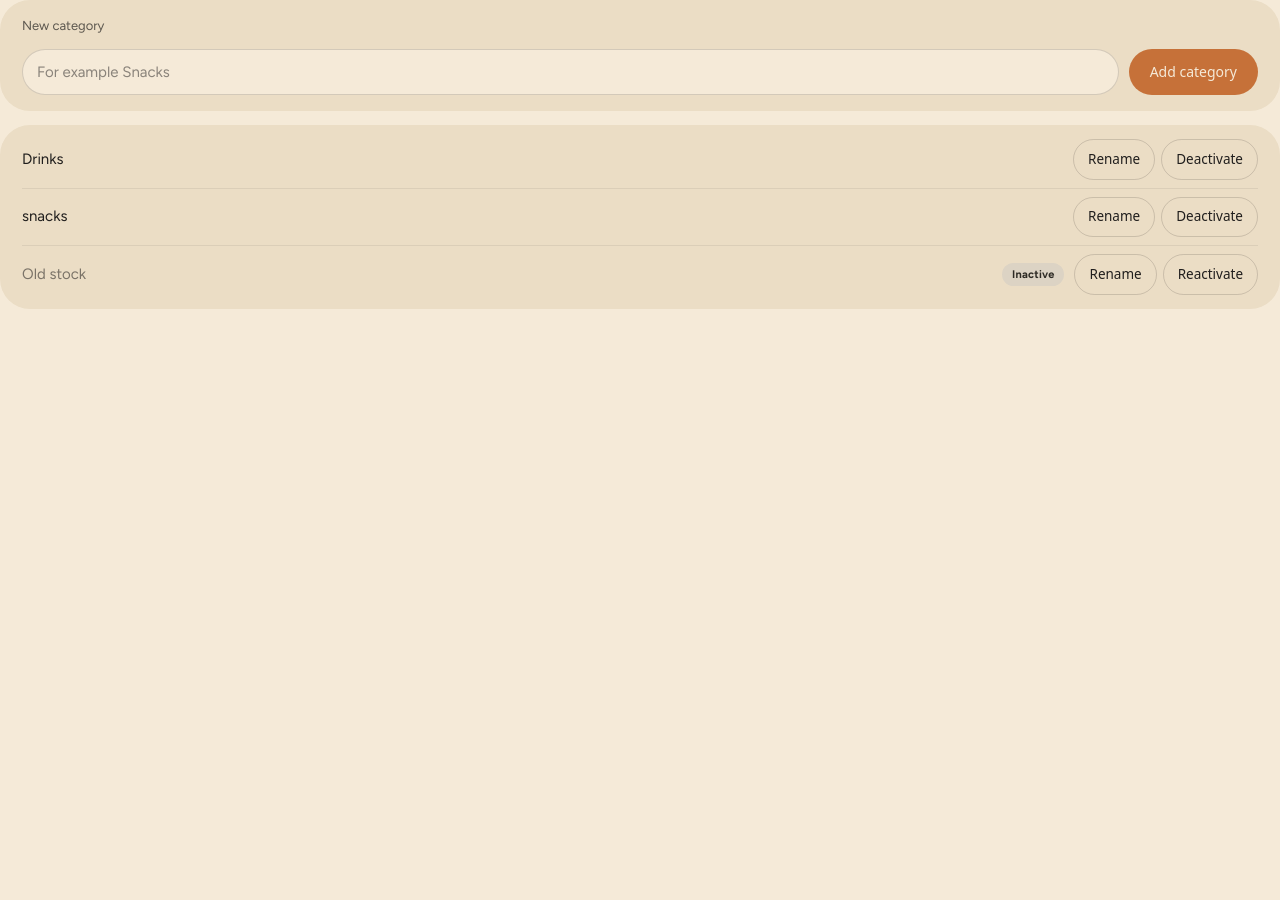
Test: Products > Categories (PROD-03) › the Owner renames a category
Click the button with aria-label "Rename Drinks".
click(1114, 159)  # box [1073,139,1155,180]
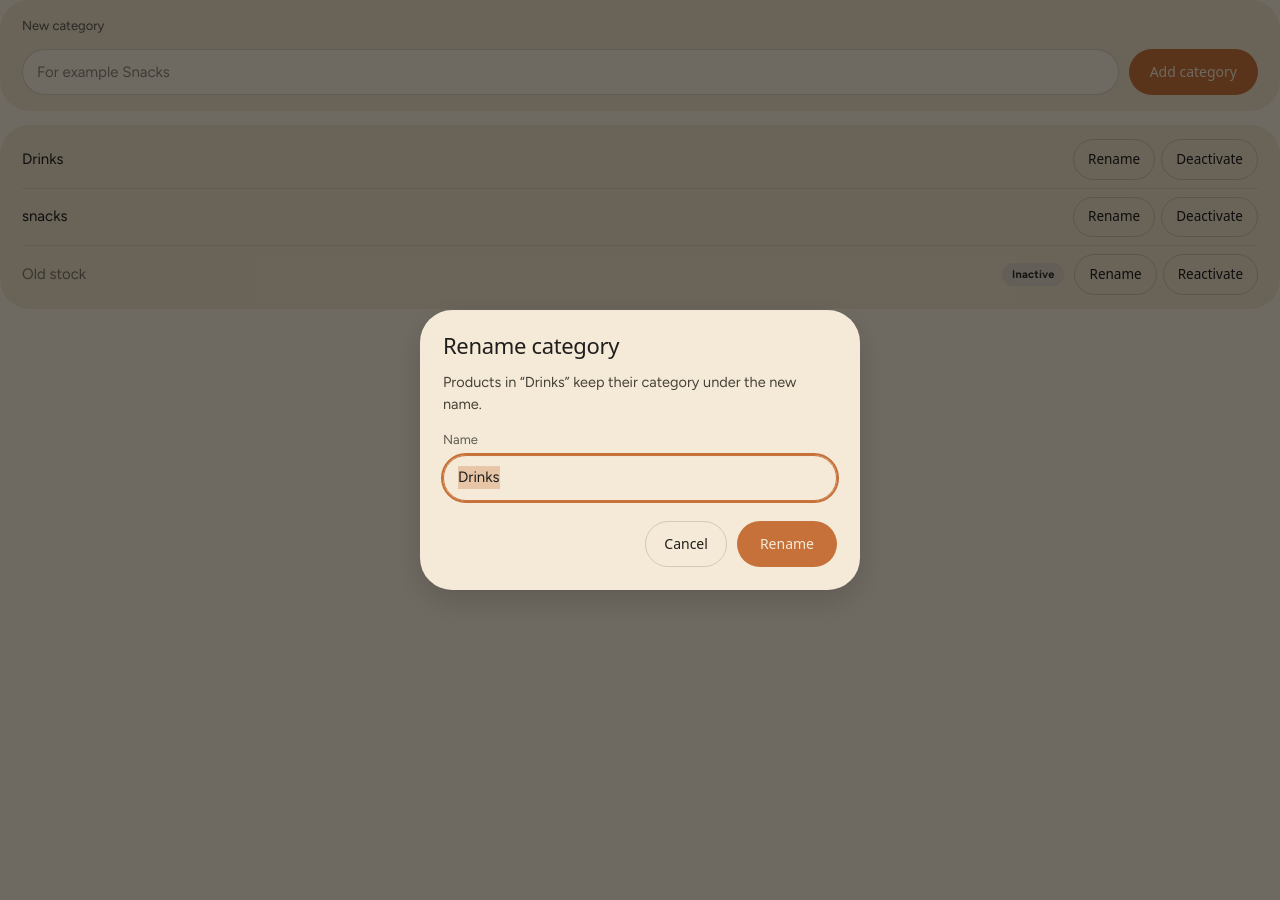
Replace the text in the field labelled "Name" with " Beverages " at (640, 478), box [443,455,837,501]
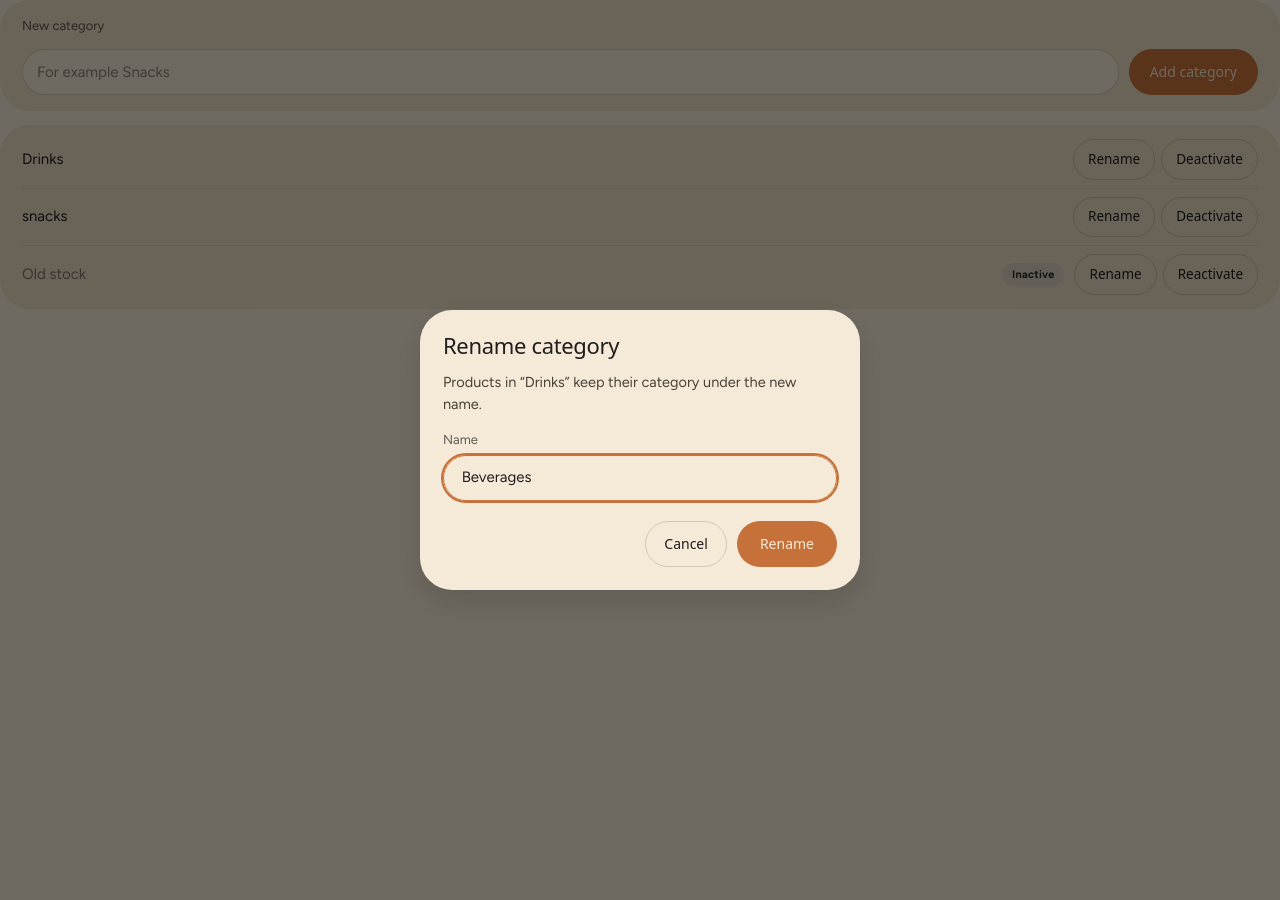
Click the button "Rename".
click(787, 544)  # box [737,521,837,567]
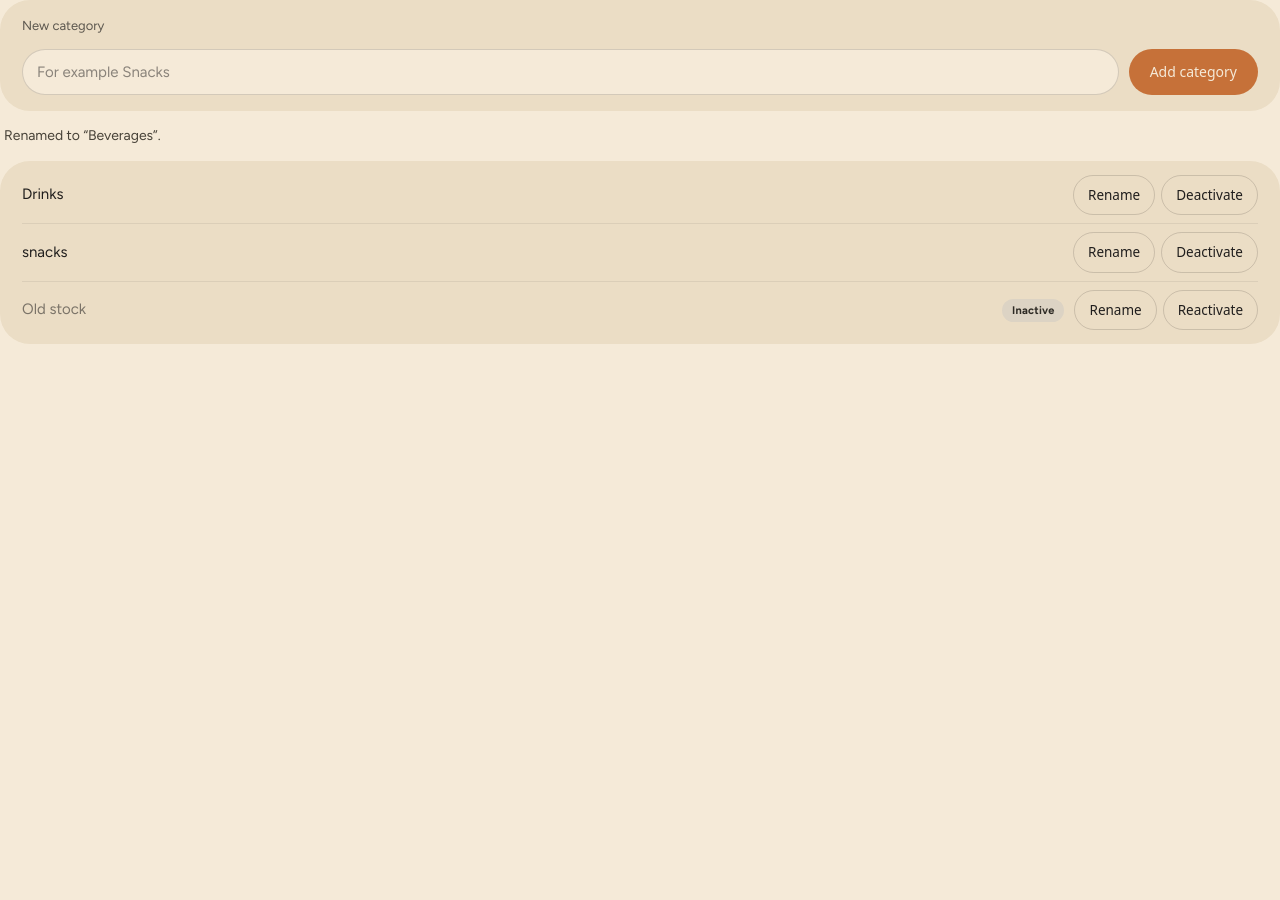
expect the text "Renamed to “Beverages”." is shown: met, box [4,127,161,144]
